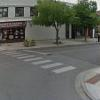Crosswalk: (4, 40, 76, 80)
